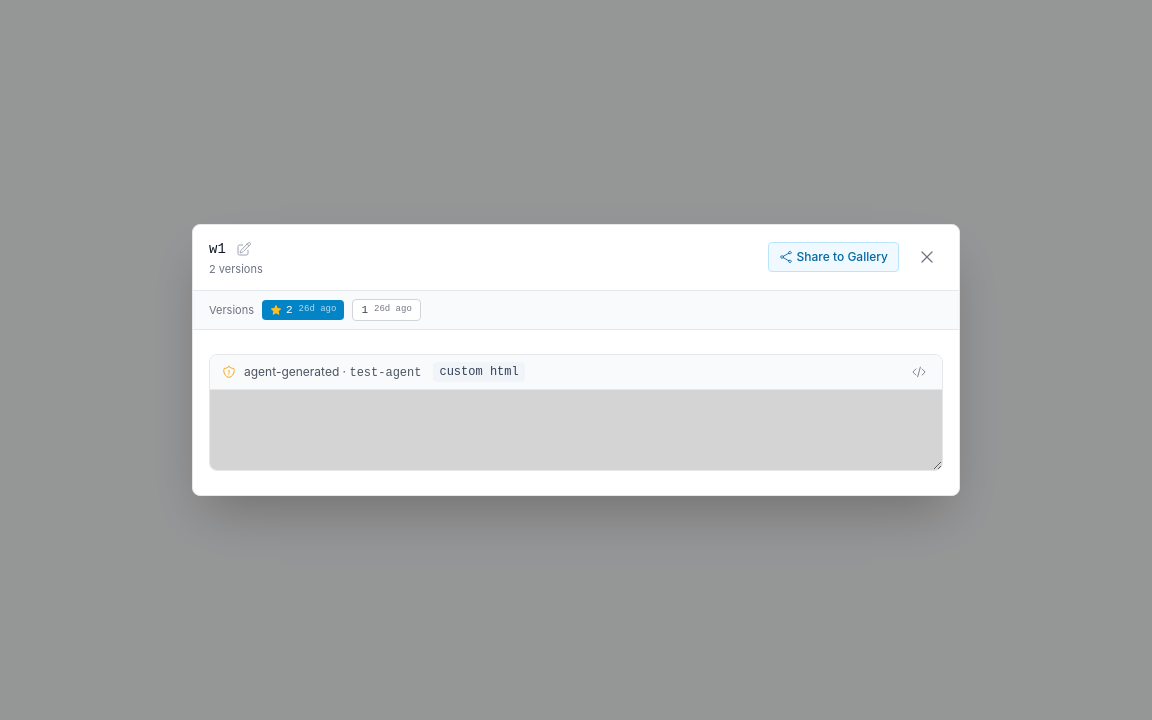
Test: Pin as main flow › clicking a non-main version reveals "Pin as main" button
Click the non-main pill (v-1)
Step 1. Click the button with test id "version-pill" → point(387, 310), box left=352, top=298, right=421, bottom=321
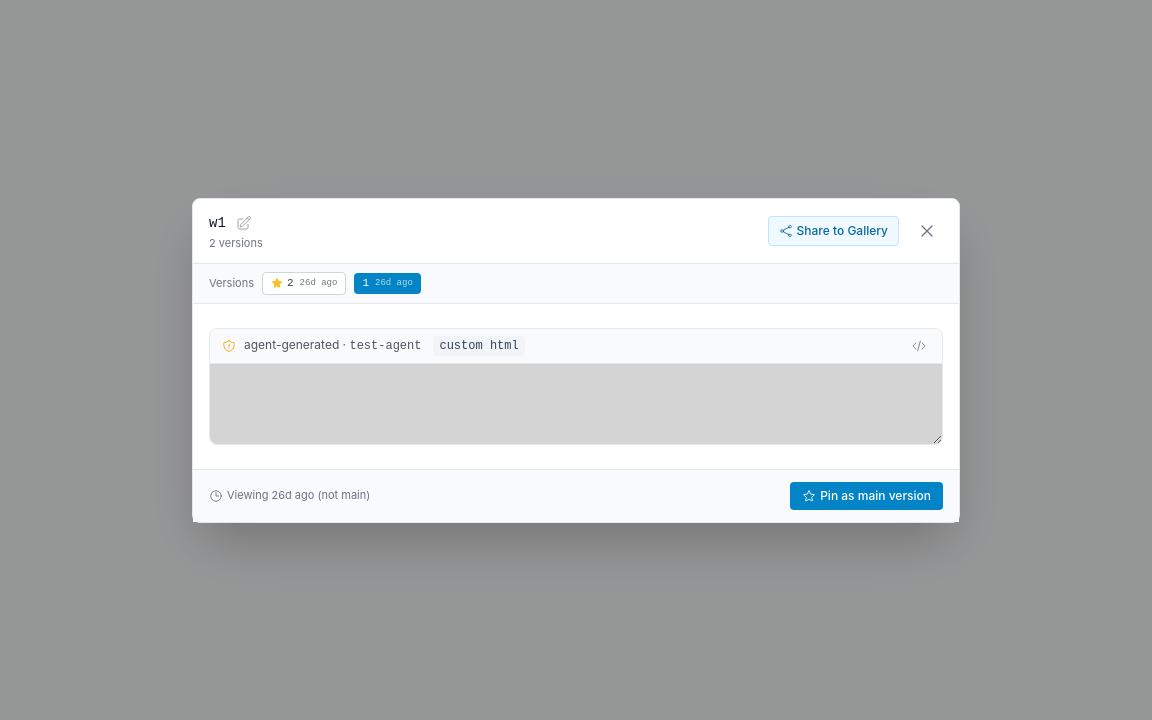
Result: the button with test id "set-main-btn" is shown at left=790, top=482, right=943, bottom=510
